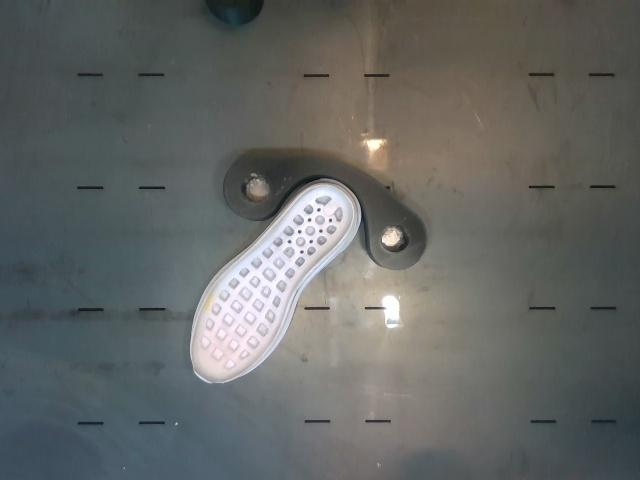shoes: (192, 186, 353, 381)
